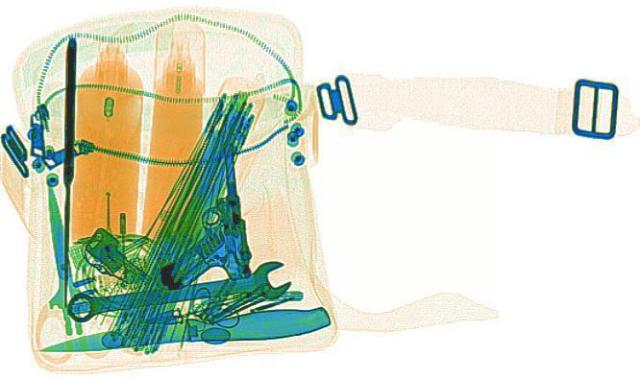Gun: (125, 141, 259, 288)
Knife: (33, 302, 331, 358), (39, 182, 83, 335), (59, 35, 76, 306)
Wrench: (56, 256, 298, 324)
